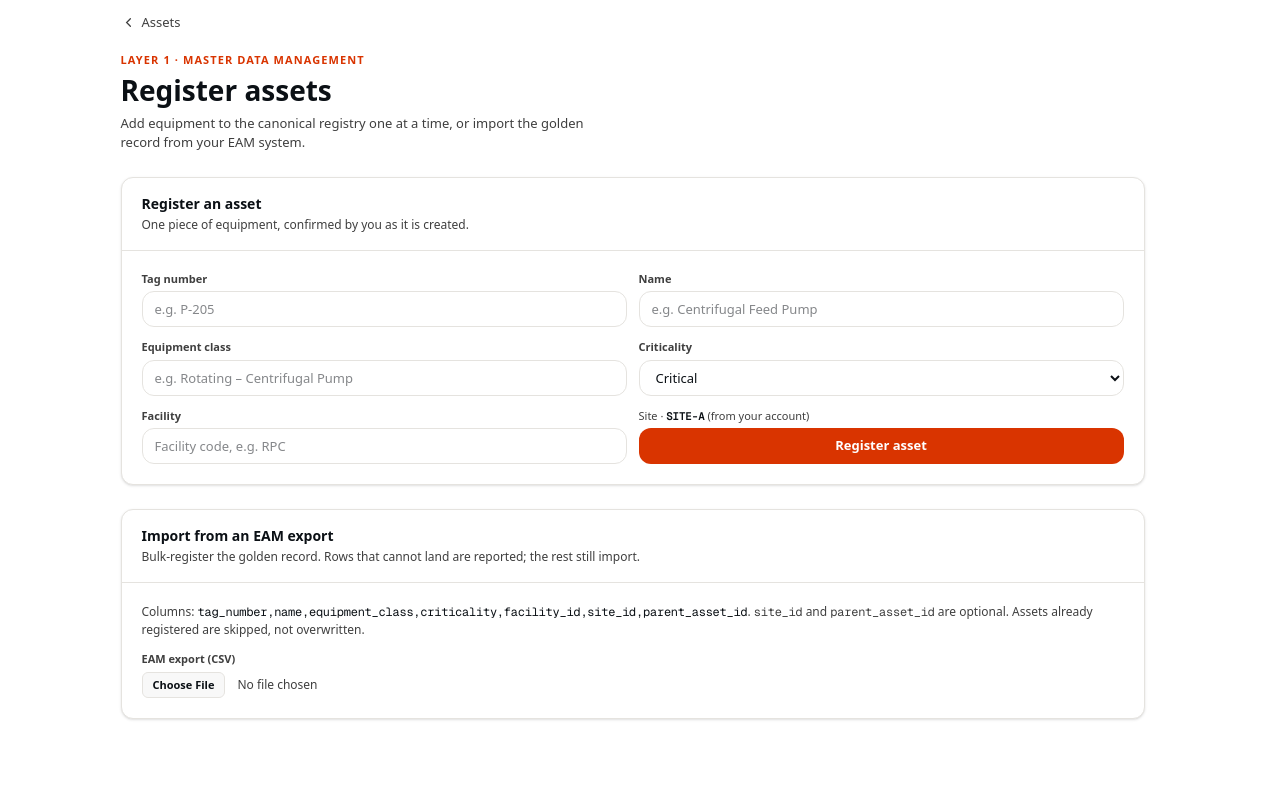
Test: RegisterAssetPage › registers a new asset with the signed-in user's site and identity
This screenshot has width=1280, height=812.
Type "p-205" into the field labelled "Tag number" at (384, 309), box [142,291,626,327]
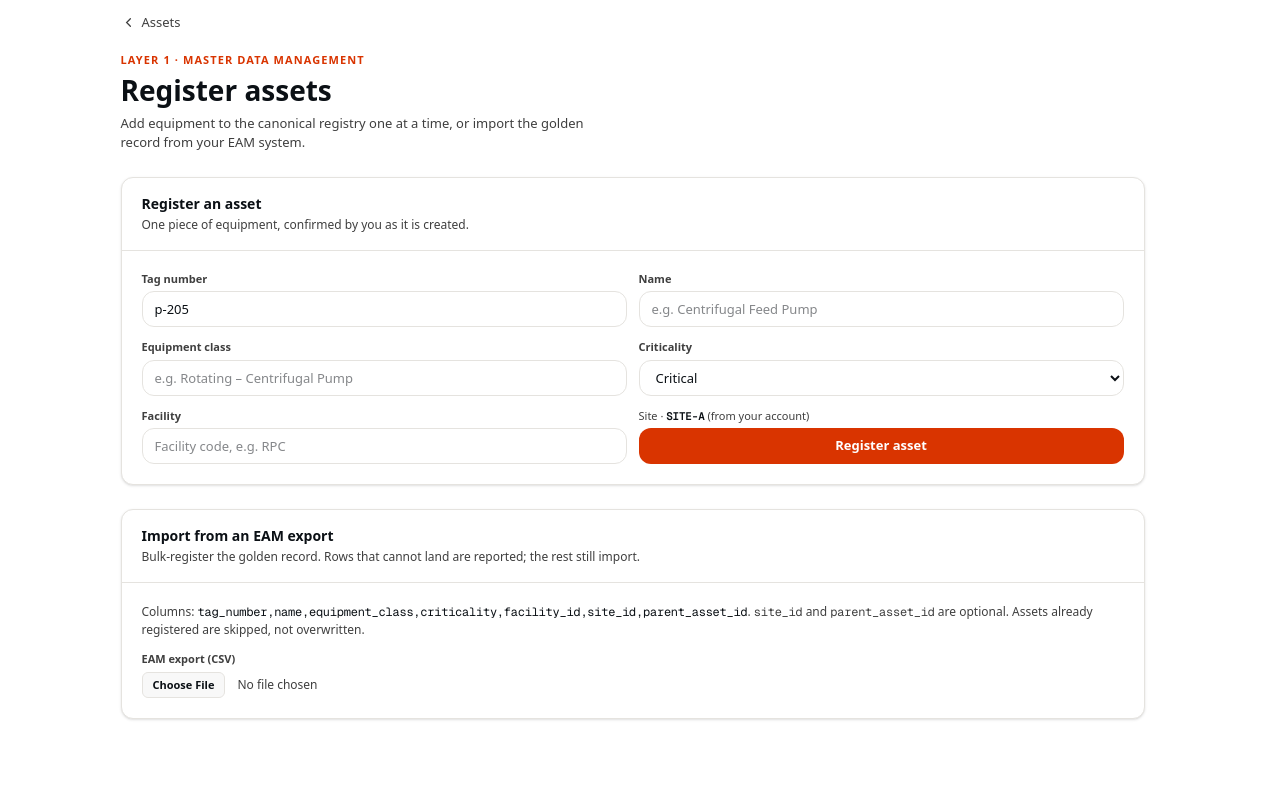
Type "Centrifugal Feed Pump" into the field labelled "Name" at (881, 309), box [638,291,1124,327]
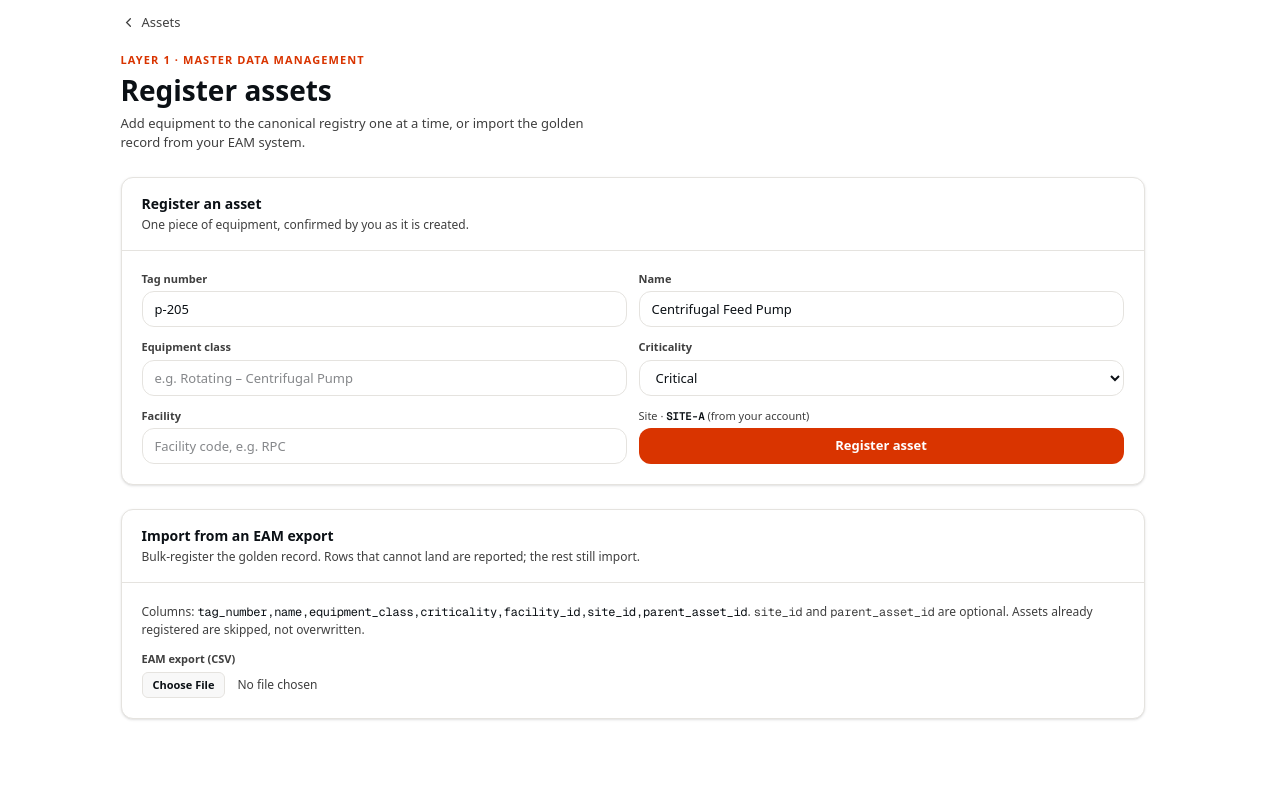
Type "Rotating – Centrifugal Pump" into the field labelled "Equipment class" at (384, 378), box [142,360,626,396]
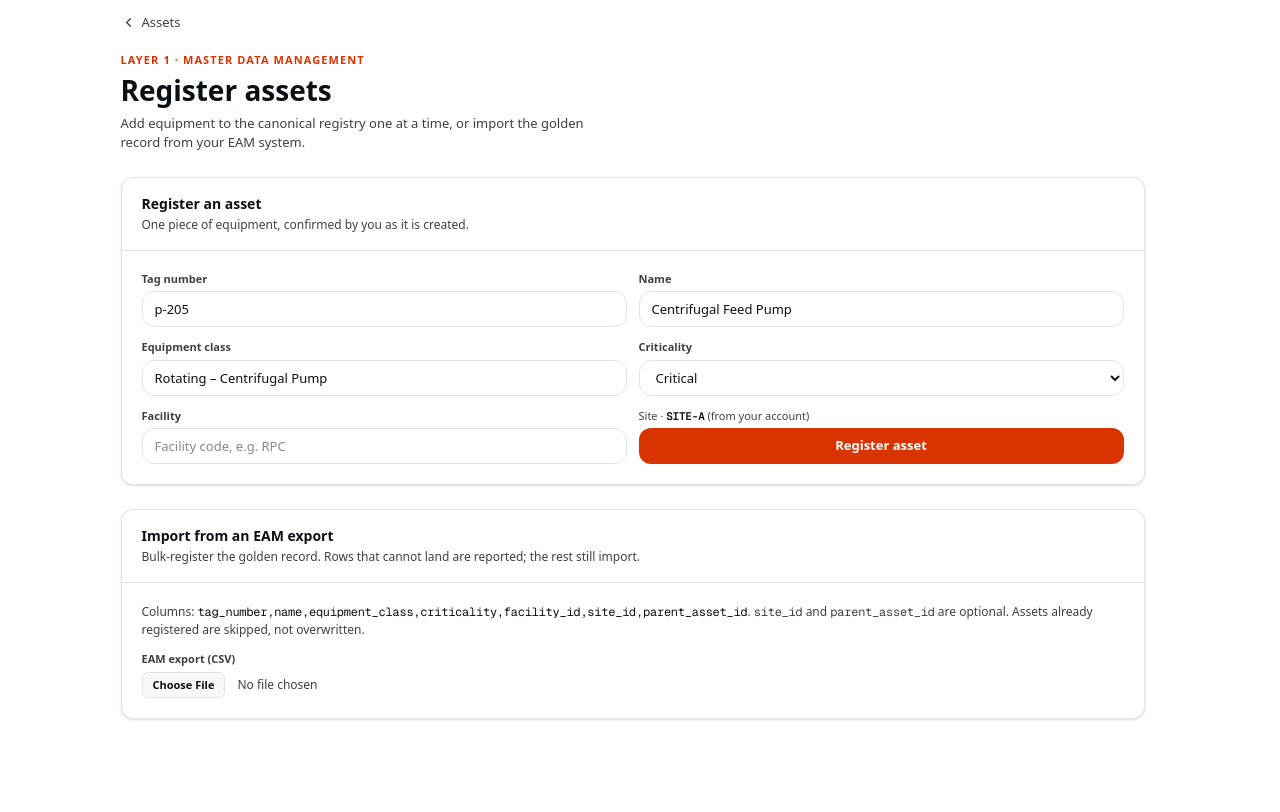
Select "Safety-critical" in the dropdown labelled "Criticality" at (881, 378), box [638,360,1124,396]
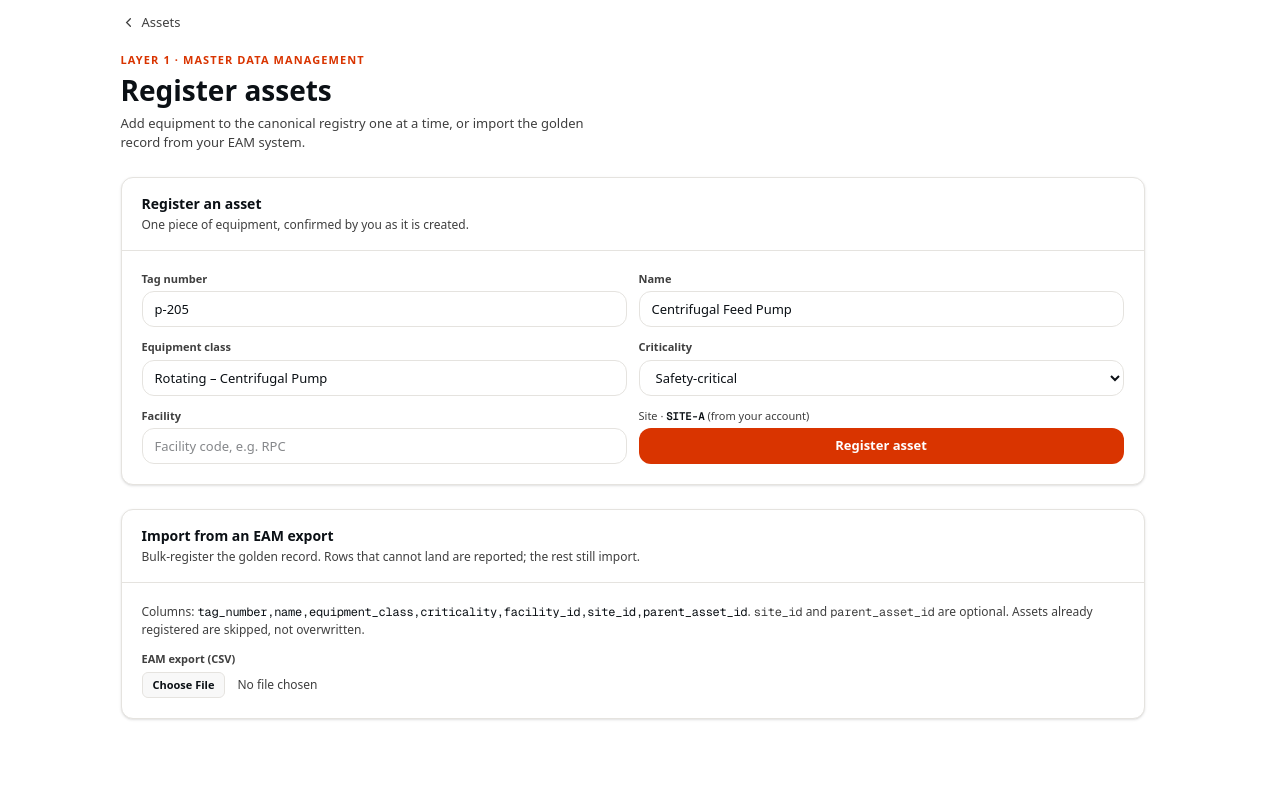
Type "rpc" into the field labelled "Facility" at (384, 446), box [142,428,626,464]
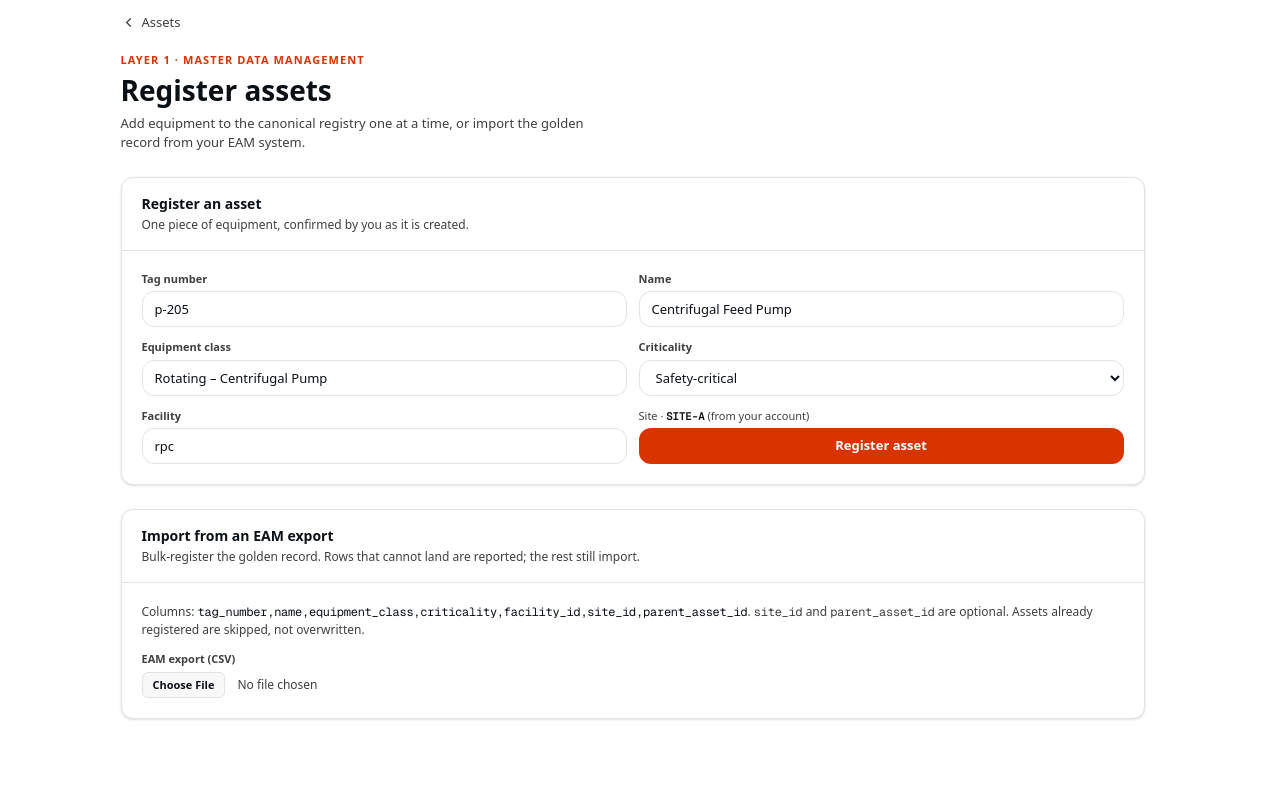
Submit the form named "Register asset", box [122,250,1144,484]
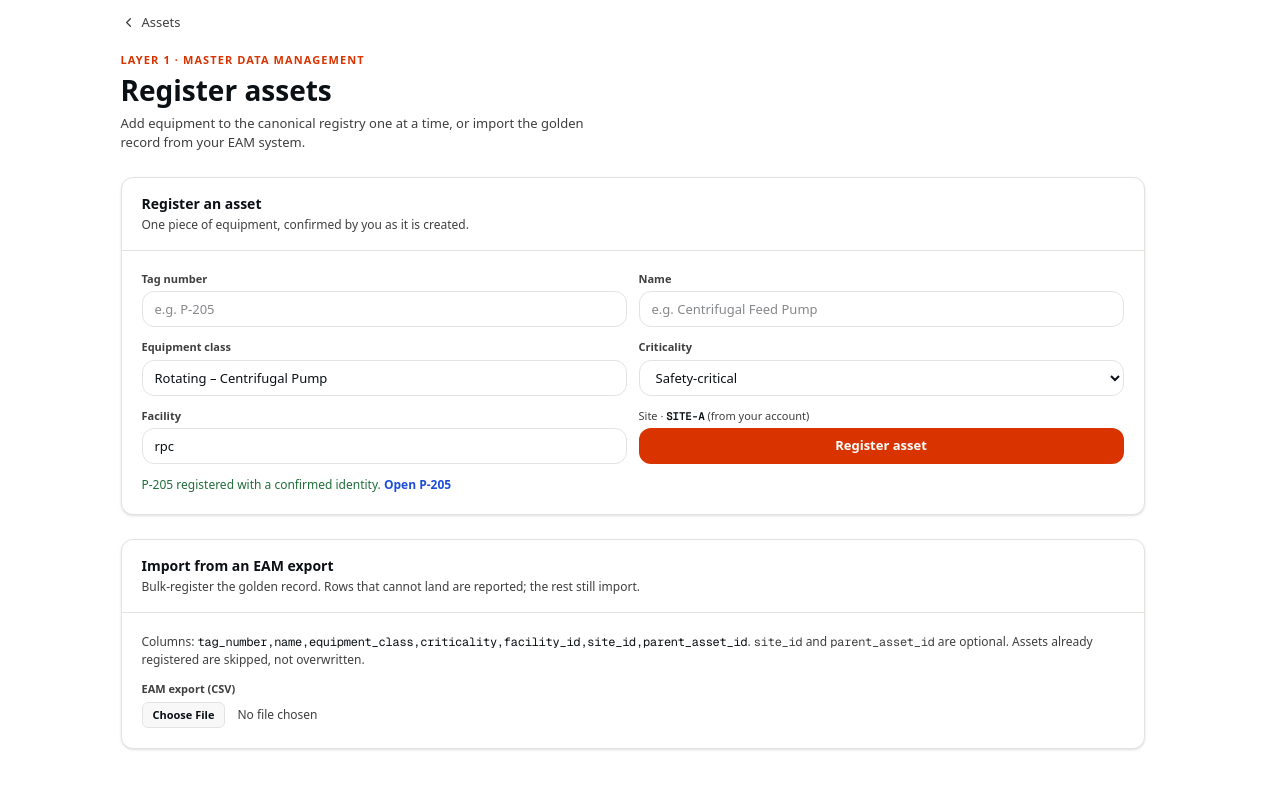
Check: the text "P-205 registered with a confirmed identity. Open P-205" is shown, box [142,476,451,493]
